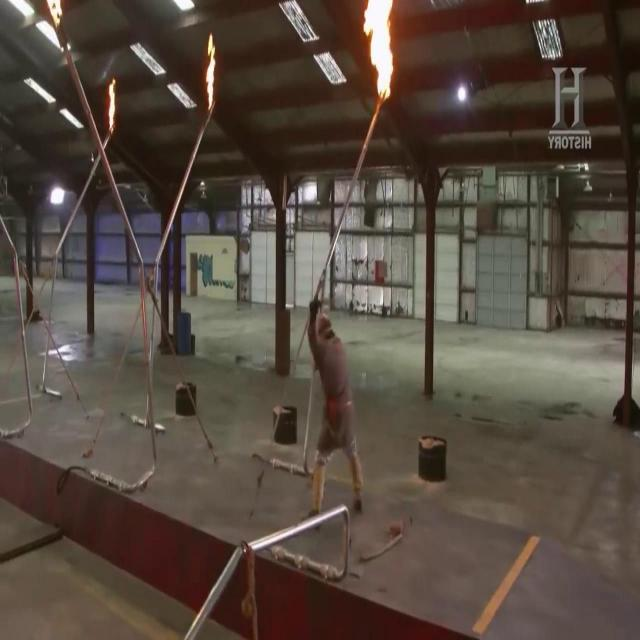fire: (362, 8, 399, 113), (200, 21, 217, 134), (104, 70, 112, 144)
